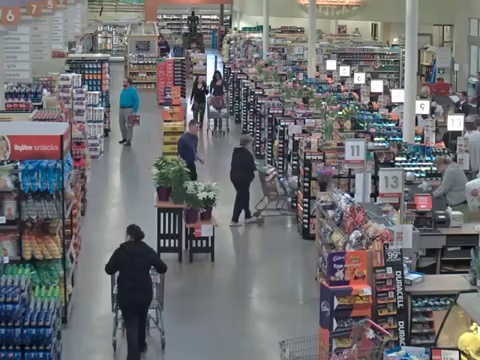face: (191, 123, 199, 134), (123, 79, 130, 87), (197, 77, 203, 83), (215, 73, 221, 79)
